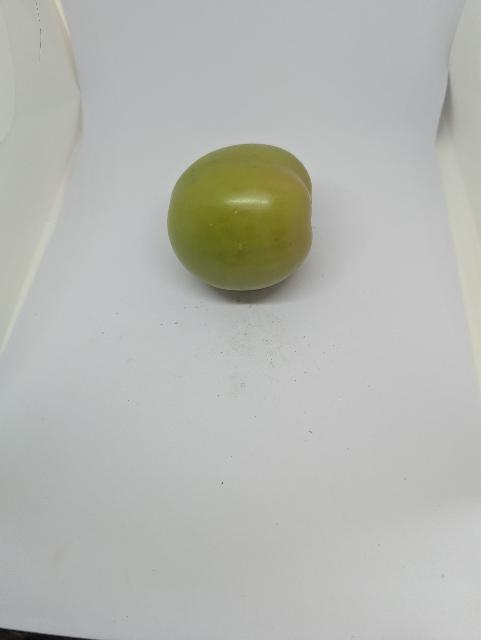green: (155, 130, 325, 304)
